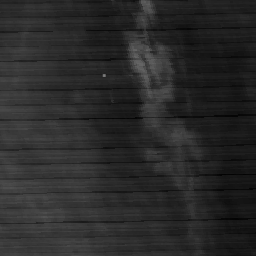Target: (101, 72, 108, 78)
